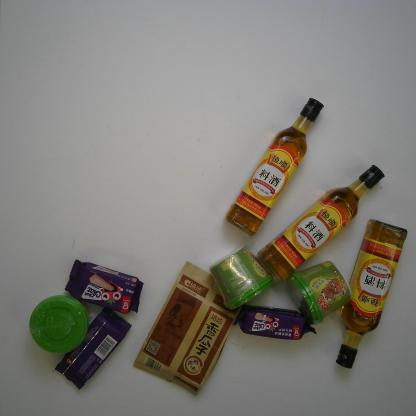Dessert: (51, 306, 133, 392), (62, 258, 145, 314), (232, 303, 317, 343)
Dried Food: (131, 259, 252, 395)
Instant Drink: (208, 244, 277, 314), (286, 259, 353, 327), (28, 294, 92, 356)
Seasoner: (256, 163, 388, 285), (225, 95, 324, 238), (333, 217, 410, 370)
